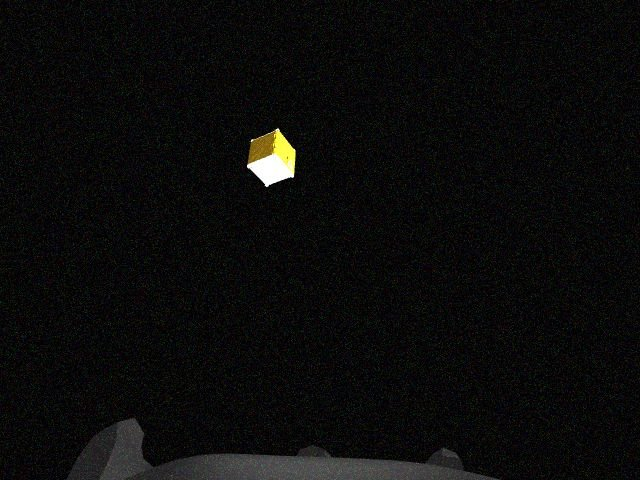cubesat: (242, 123, 302, 191)
